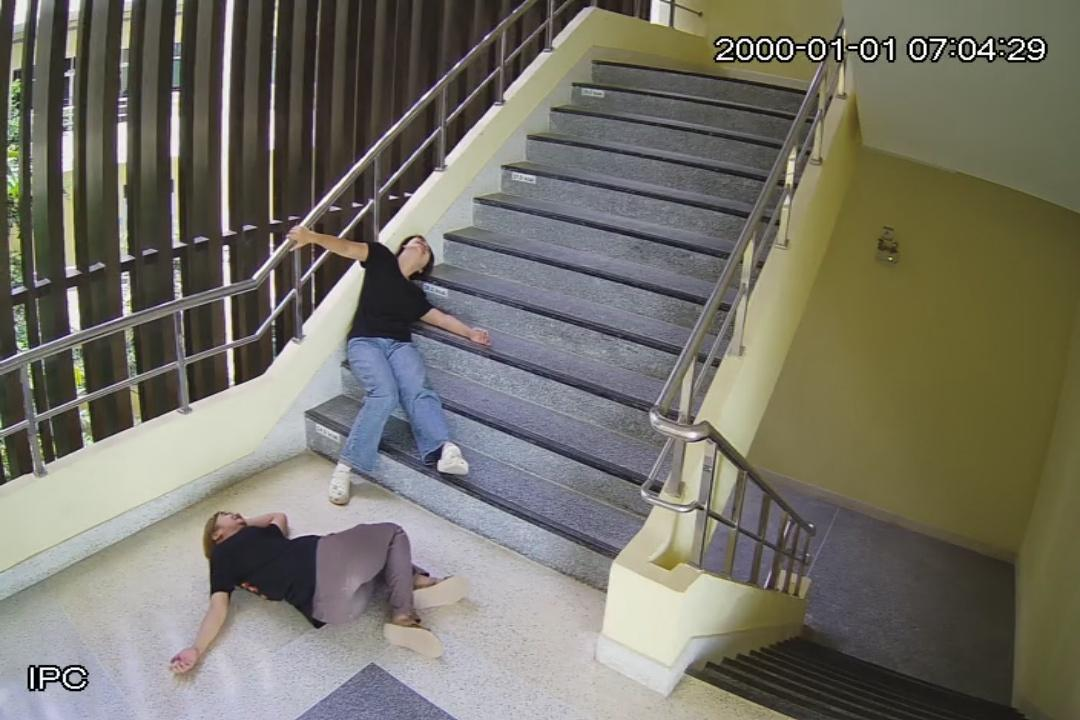fall: (285, 225, 485, 508), (168, 509, 469, 673)
